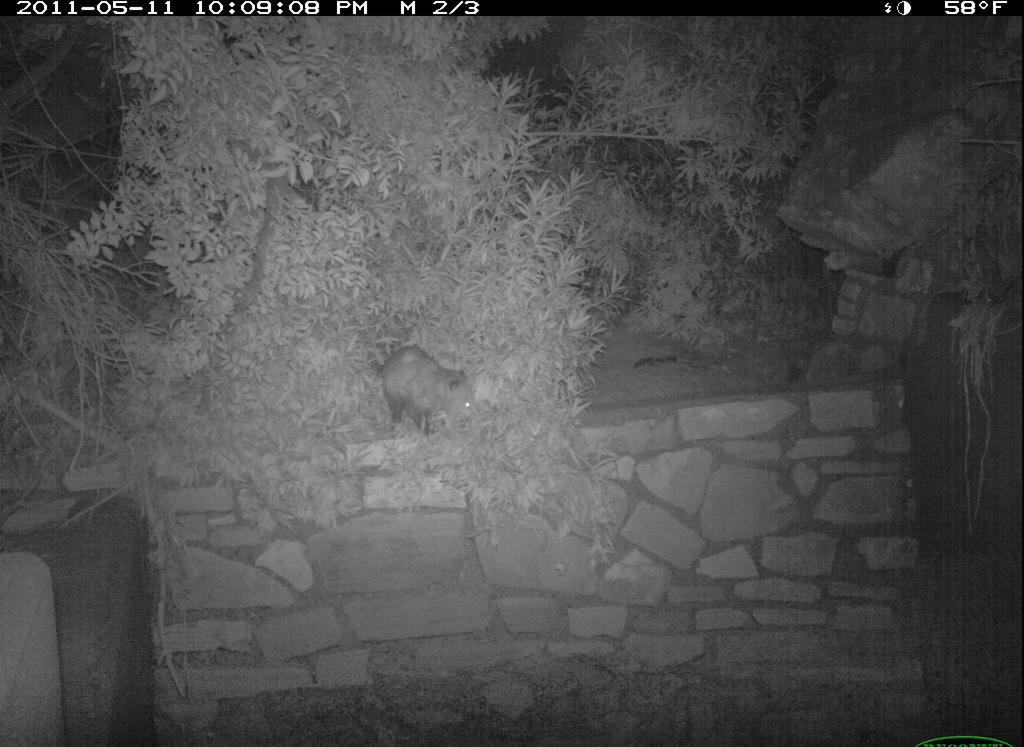opossum: (357, 330, 515, 454)
